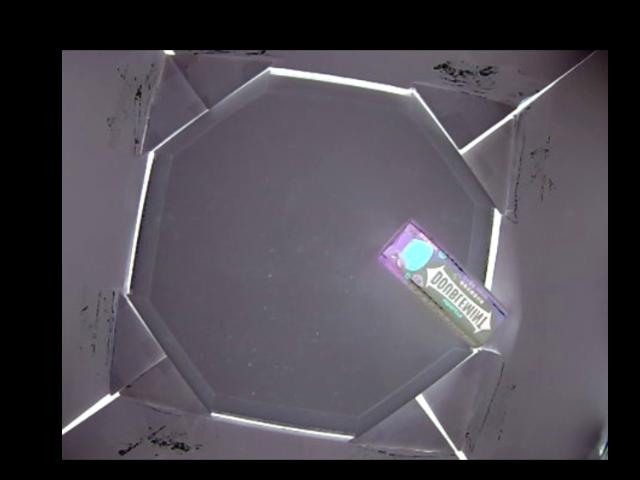Bottle: (378, 219, 503, 348)
